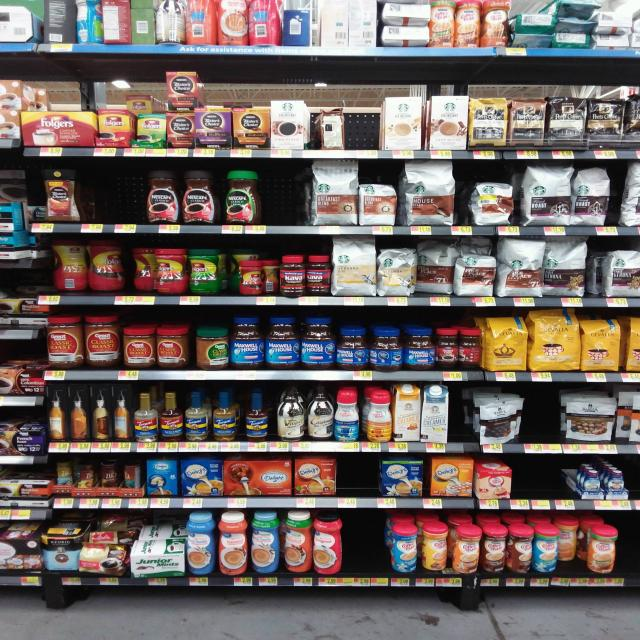void: (263, 159, 308, 235), (349, 508, 387, 587), (114, 160, 144, 234), (526, 386, 557, 455), (83, 160, 111, 235), (343, 455, 380, 508), (347, 97, 377, 157), (545, 454, 576, 509), (451, 388, 475, 456), (621, 516, 638, 586), (518, 456, 540, 510)
